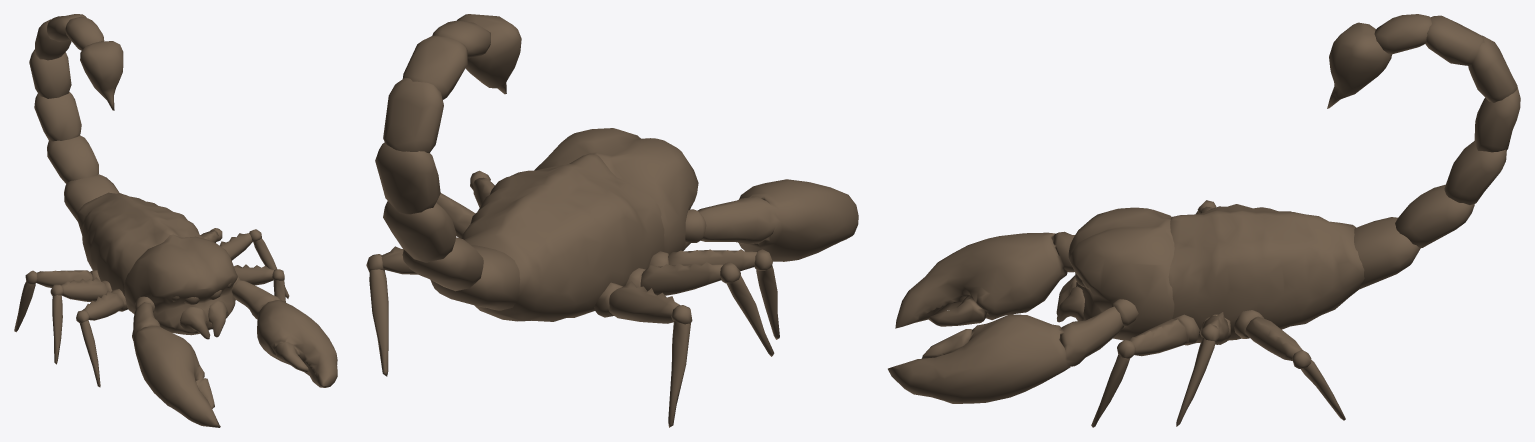
File: scorpion.glb
3 views of the same model, side by side, from view 1: azimuth 30°, elevation 25°; view 2: azimuth 150°, elevation 25°; view 3: azimuth 270°, elevation 25° (orthographic). The views are drawn at different scales.
Parts seen in each view (by area): view 1: Body, Claw_R, Claw_L, Leg_R_4, Leg_R_3, Leg_R_5, Leg_L_1, Leg_L_0; view 2: Body, Claw_R, Leg_R_5, Leg_R_4, Leg_R_3, Leg_L_2, Leg_L_1, Leg_L_0; view 3: Body, Claw_L, Claw_R, Leg_L_0, Leg_L_2, Leg_L_1.
Boxes of the visible parts, <box> form: Body: <box>29,14,237,339</box>; Claw_R: <box>132,296,220,427</box>; Claw_L: <box>231,277,337,387</box>; Leg_R_4: <box>50,277,112,364</box>; Leg_R_3: <box>76,289,127,387</box>; Leg_R_5: <box>14,270,100,332</box>; Leg_L_1: <box>219,229,289,298</box>; Leg_L_0: <box>234,264,285,302</box>; Body: <box>375,14,698,321</box>; Claw_R: <box>685,179,858,261</box>; Leg_R_5: <box>594,281,692,427</box>; Leg_R_4: <box>626,262,774,356</box>; Leg_R_3: <box>648,249,779,339</box>; Leg_L_2: <box>366,246,418,376</box>; Leg_L_1: <box>436,193,475,238</box>; Leg_L_0: <box>470,170,494,207</box>; Body: <box>1056,14,1520,343</box>; Claw_L: <box>888,299,1138,403</box>; Claw_R: <box>895,231,1074,328</box>; Leg_L_0: <box>1091,314,1199,427</box>; Leg_L_2: <box>1234,310,1345,420</box>; Leg_L_1: <box>1176,312,1230,426</box>.
Size of the model in its own units: 0.5858 by 0.6216 by 0.9996.
